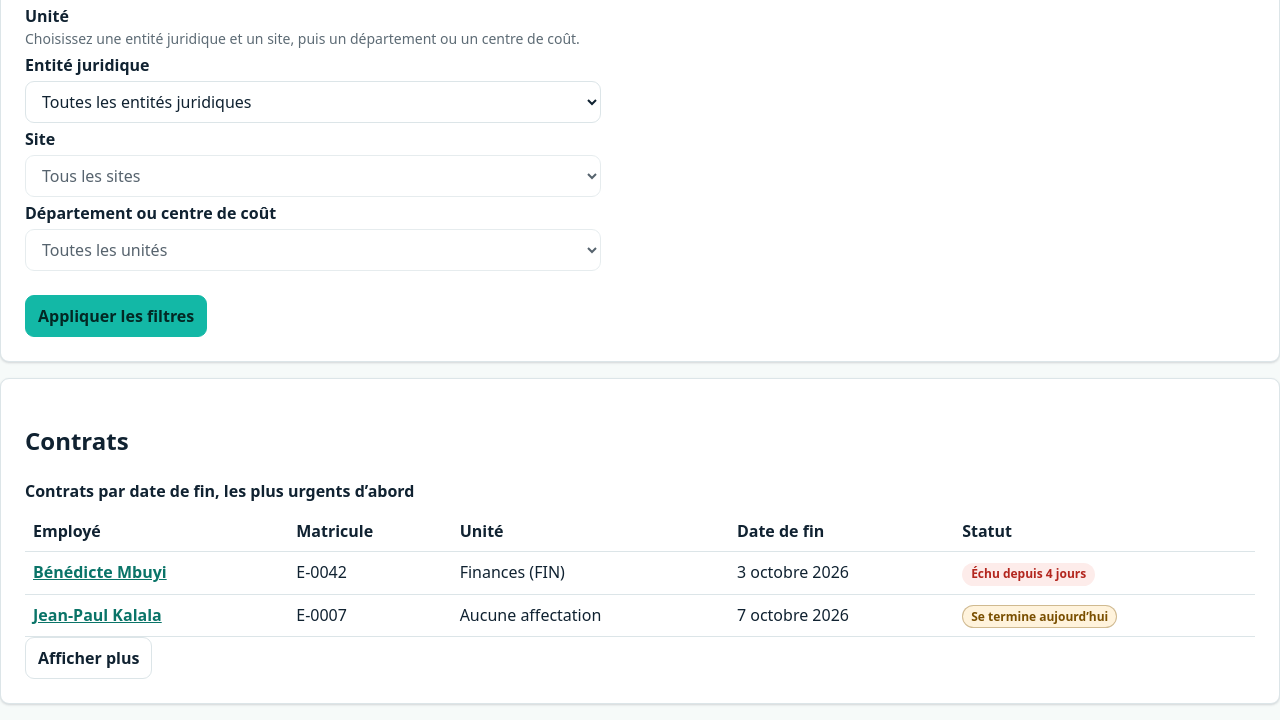
MVP-031A contract expirations (fr) › shows more with the cursor and moves focus to the first new row
The image size is (1280, 720).
(page scrolled)
Expected: the table with test id "expirations-table" is shown, [25,479,1255,637]
Click the button "Afficher plus" at (89, 658), box [25,637,152,679]
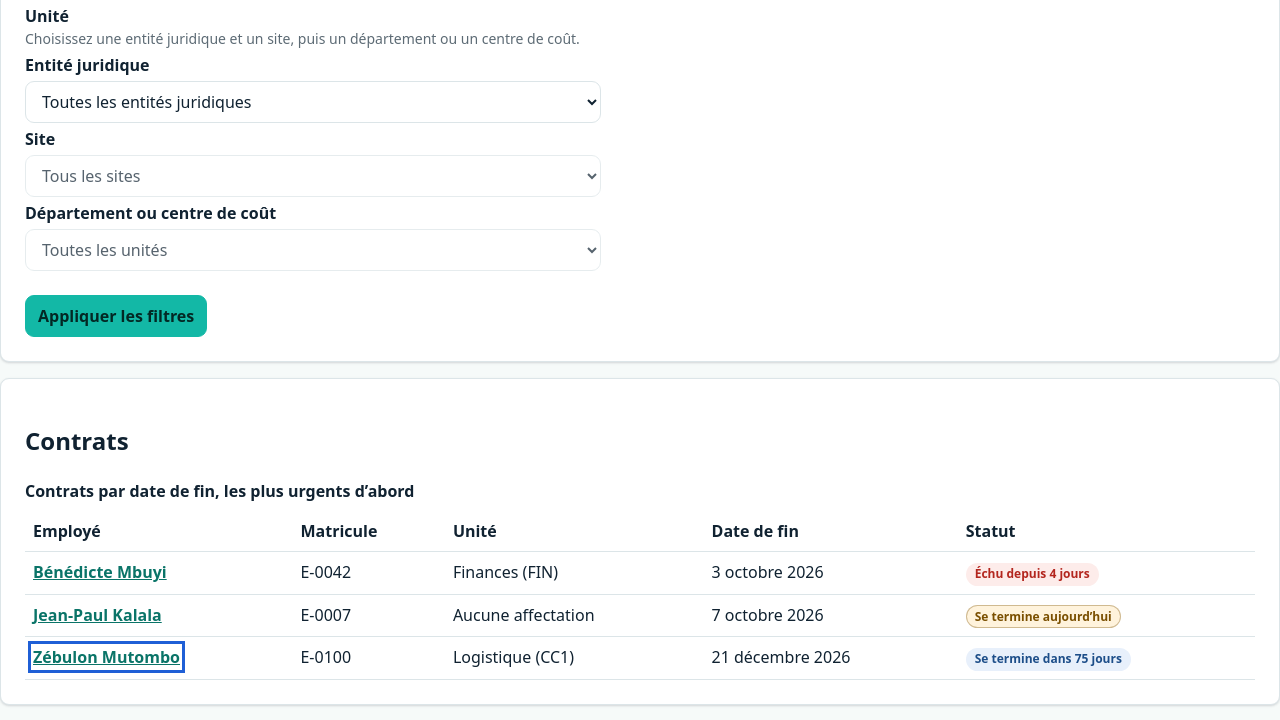
Expected: the number of rows with test id "expiration-row" is 3, [25,552,1255,594]; [25,594,1255,637]; [25,637,1255,680]
Expected: the button "Afficher plus" is gone
